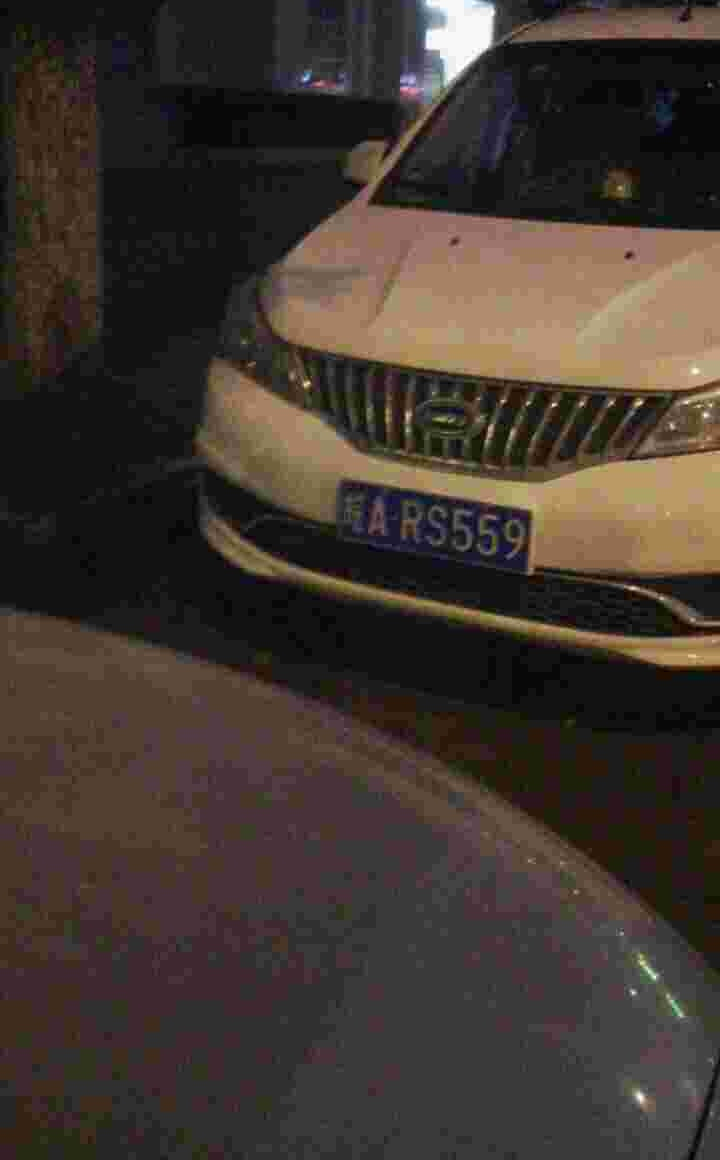car: (334, 480, 539, 565)
